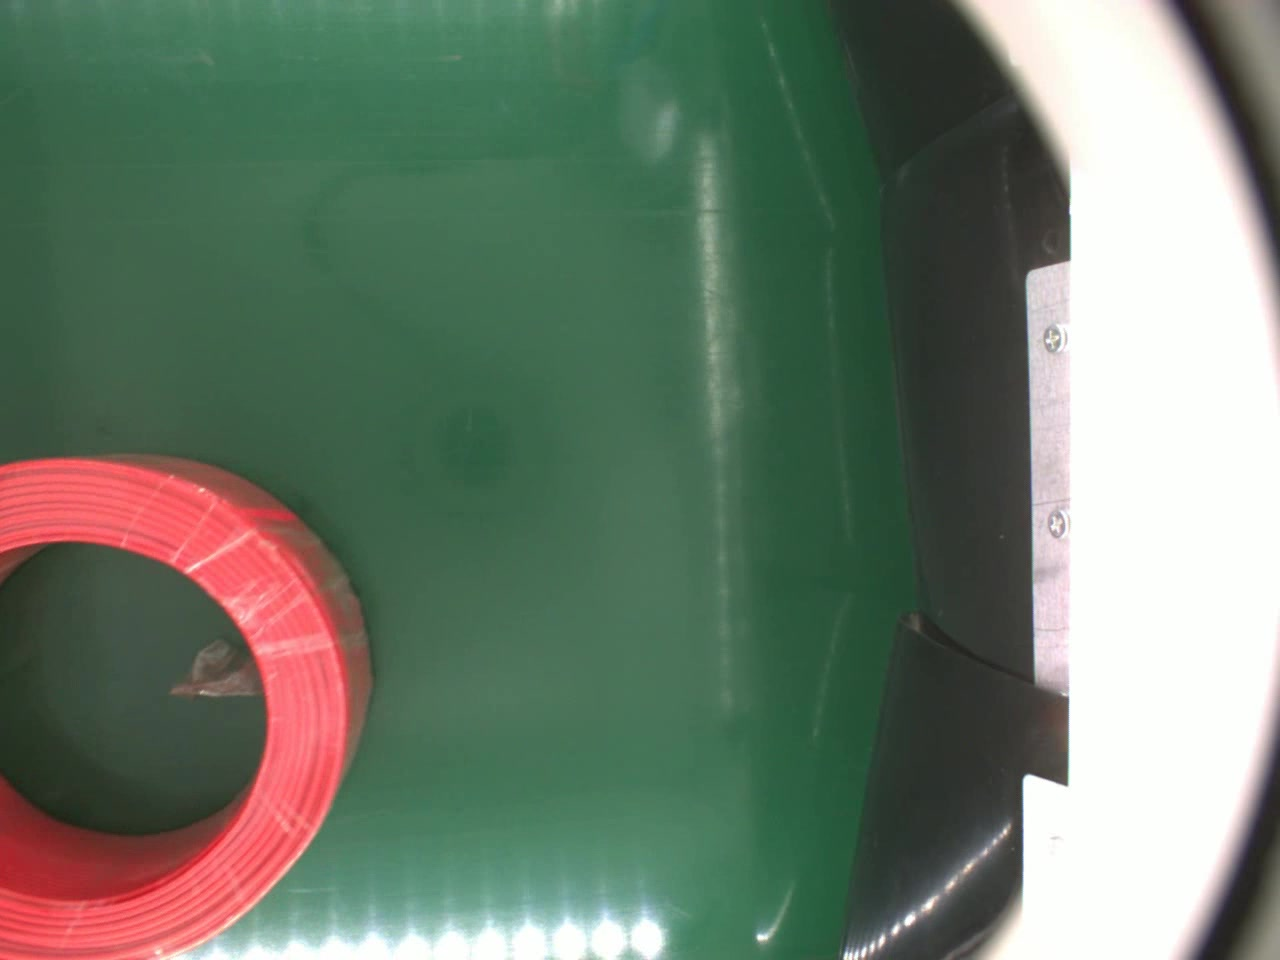red: (0, 447, 375, 960)
